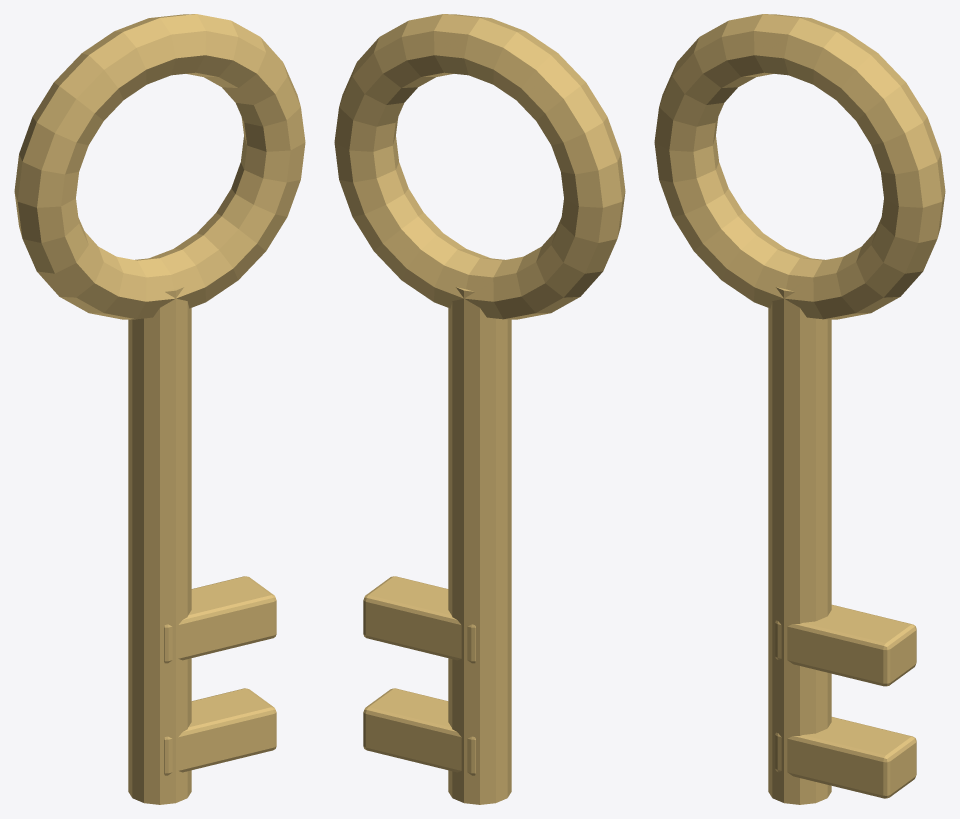
Rendered from key.glb.
The picture shows the model from 3 angles, left to right: view 1: azimuth 30°, elevation 25°; view 2: azimuth 150°, elevation 25°; view 3: azimuth 330°, elevation 25°; orthographic projection.
Visible parts, largest first — view 1: key_Mesh; view 2: key_Mesh; view 3: key_Mesh.
Boxes of the visible parts, x1,y1,x2,y2 form: key_Mesh: (14,14,305,804); key_Mesh: (334,14,625,804); key_Mesh: (654,14,945,804).
Bounding box in the file's own units: 0.186 × 0.483 × 0.036.
